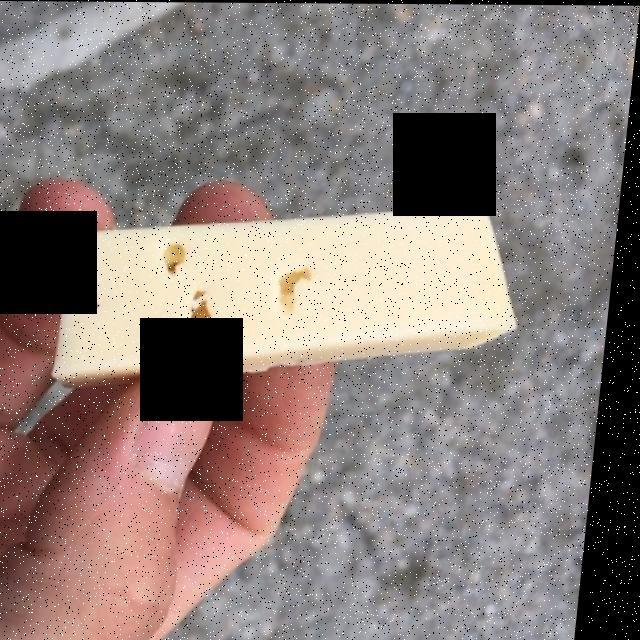cheese: (70, 202, 513, 377)
